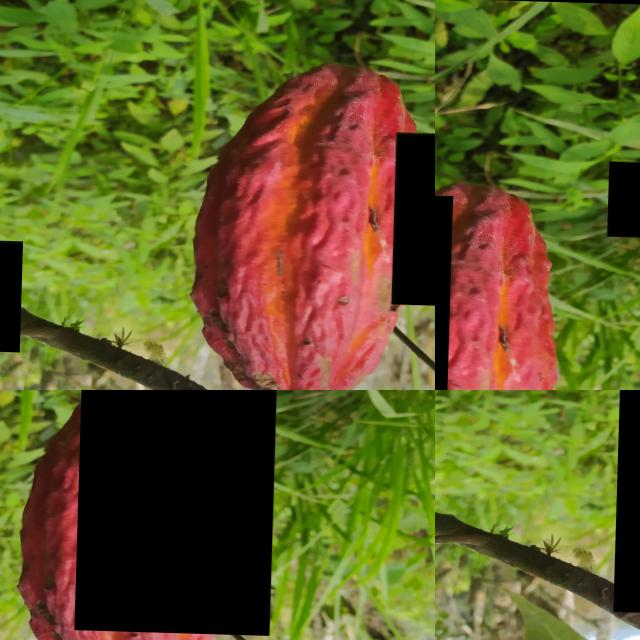Sana: (77, 390, 279, 632), (394, 129, 435, 304), (0, 240, 25, 352), (608, 158, 640, 234)
